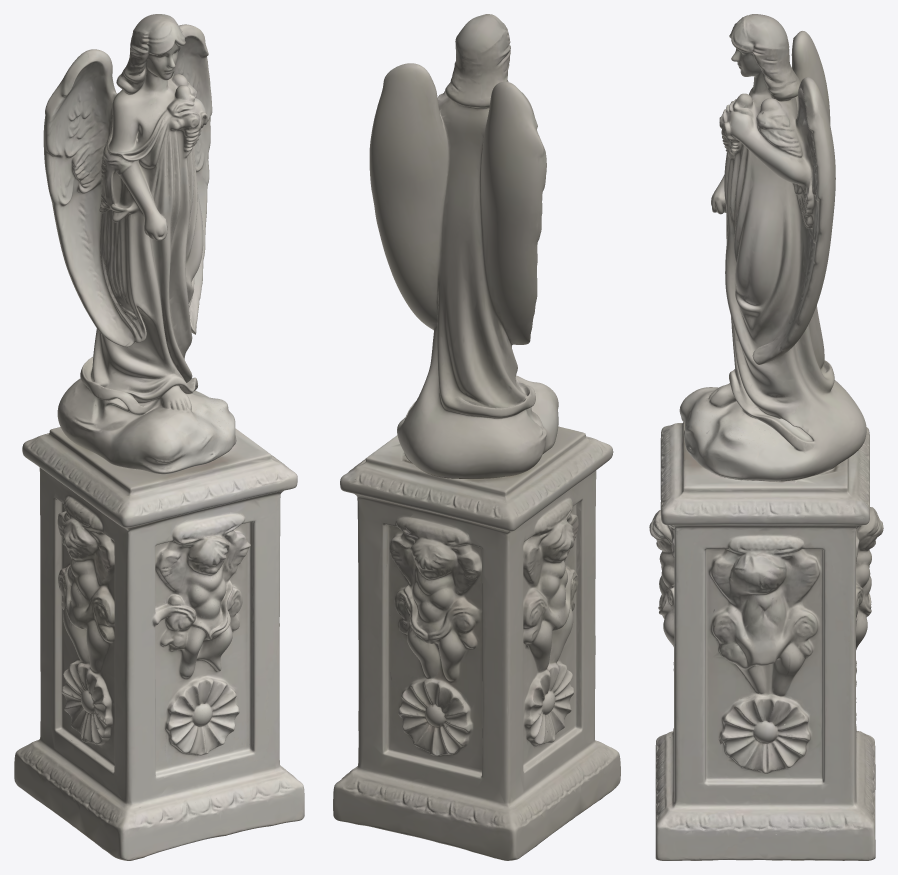
The picture shows the model from 3 angles, left to right: view 1: azimuth 30°, elevation 25°; view 2: azimuth 150°, elevation 25°; view 3: azimuth 270°, elevation 25°; orthographic projection.
Visible parts, largest first — view 1: node_0; view 2: node_0; view 3: node_0.
Part boxes in pixels (x1,y1,x2,y2): node_0: [14, 14, 304, 860]; node_0: [333, 14, 620, 860]; node_0: [649, 14, 883, 860].
Bounding box in the file's own units: 0.2955 × 1.14 × 0.3023.
Materials: 1 (1 with a texture image).
